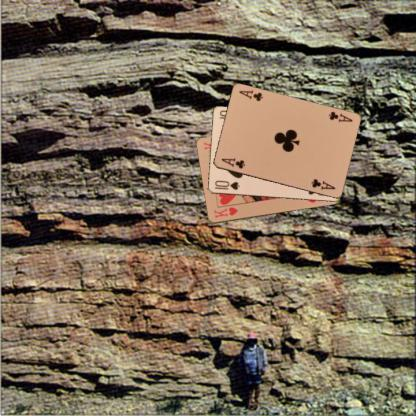10s: (212, 178, 240, 191)
Ac: (326, 108, 353, 124), (219, 155, 246, 170)
Kh: (212, 204, 239, 219)
